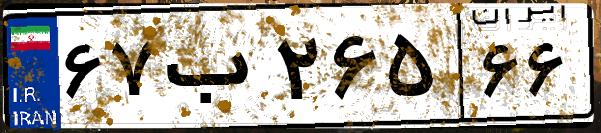2: (270, 28, 330, 110)
5: (385, 28, 445, 110)
6: (330, 28, 385, 110), (57, 26, 110, 100), (475, 38, 525, 113), (525, 38, 570, 115)
7: (110, 28, 158, 98)
ب: (158, 20, 270, 120)
